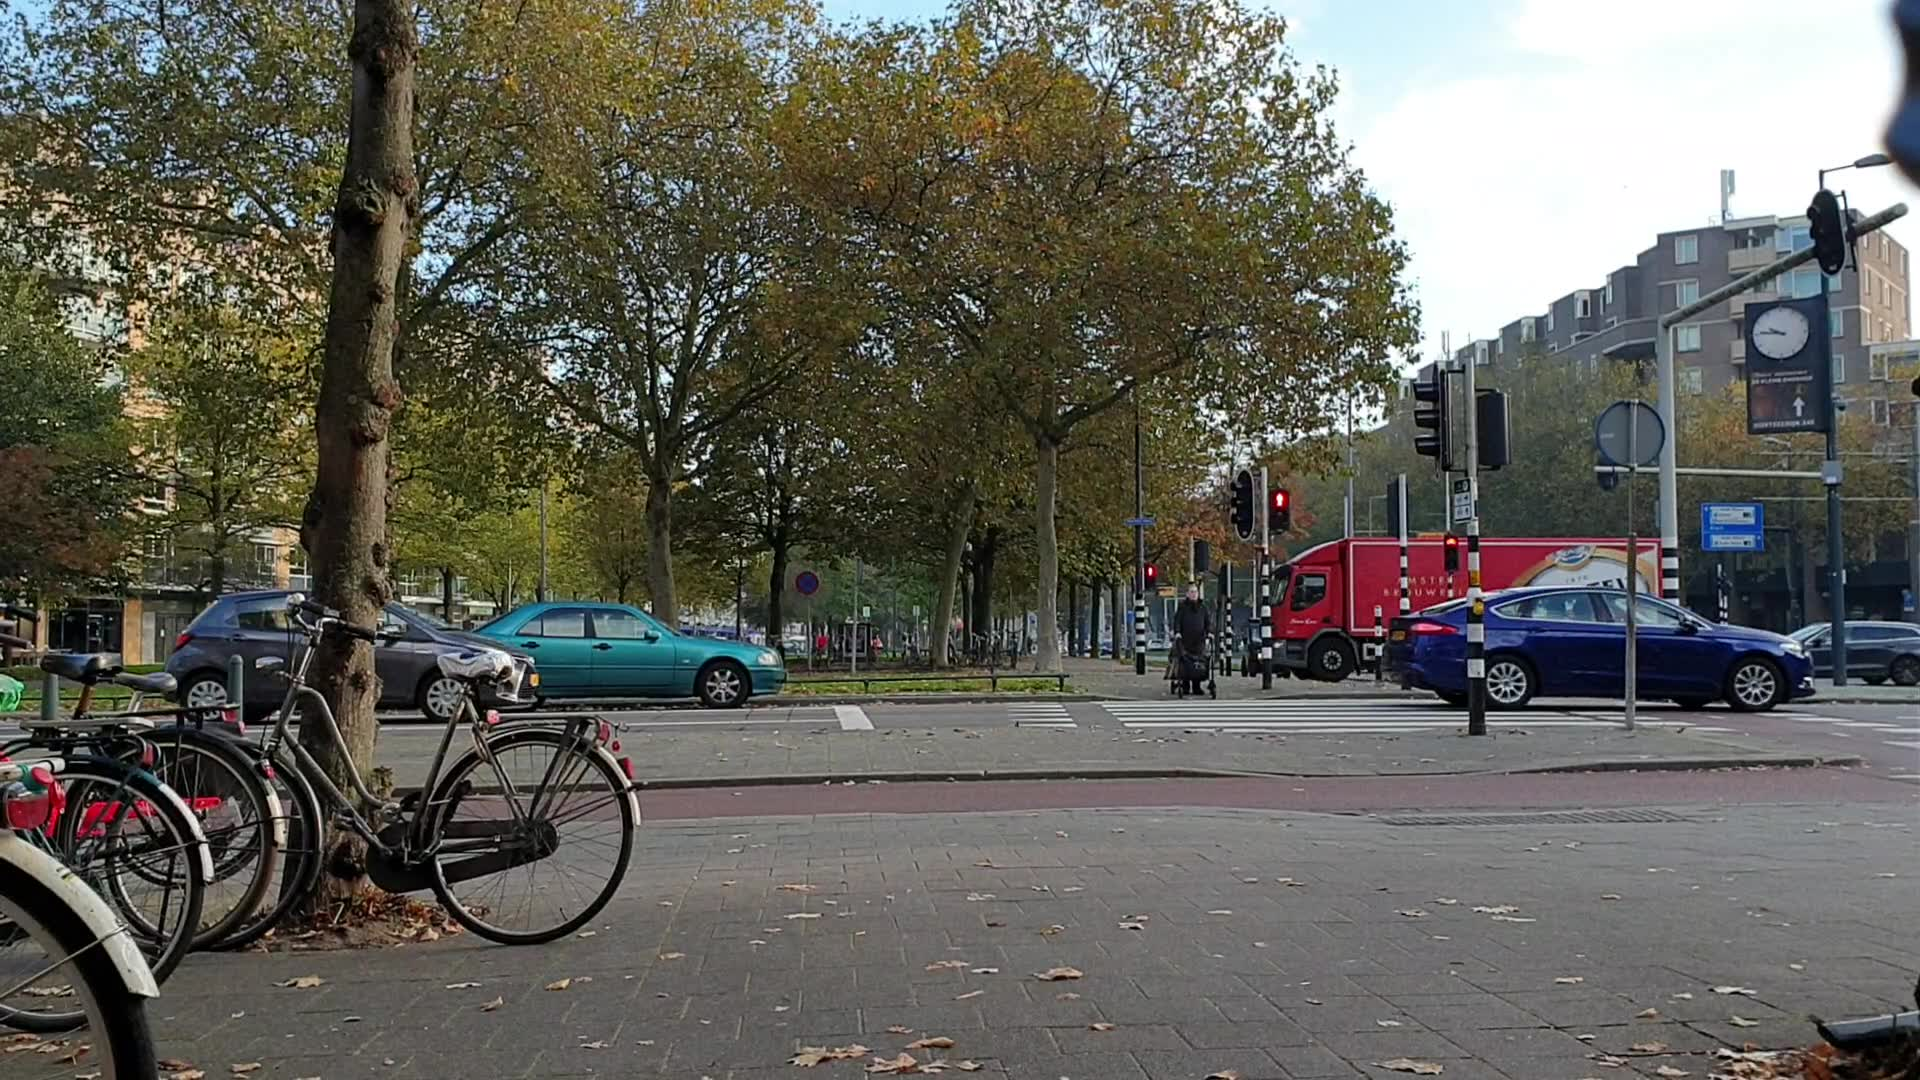car: (1396, 584, 1832, 720), (179, 591, 538, 721), (479, 593, 789, 708)
